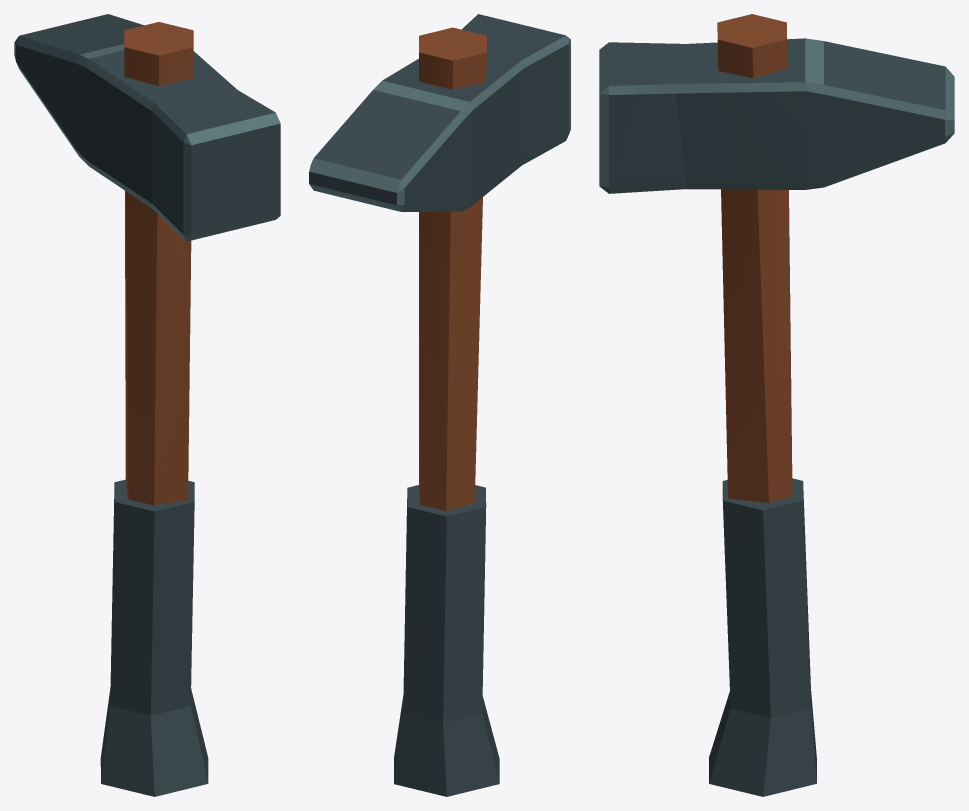
The model's file is Hammer.fbx.
The picture shows the model from 3 angles, left to right: view 1: azimuth 30°, elevation 25°; view 2: azimuth 150°, elevation 25°; view 3: azimuth 270°, elevation 25°; orthographic projection. The views are drawn at different scales.
Visible parts, largest first — view 1: Hammer; view 2: Hammer; view 3: Hammer.
Part boxes in pixels (x1,y1,x2,y2): Hammer: (14, 14, 280, 796); Hammer: (309, 14, 570, 796); Hammer: (599, 14, 954, 796).
Bounding box in the file's own units: 11.68 × 76.43 × 33.3.
